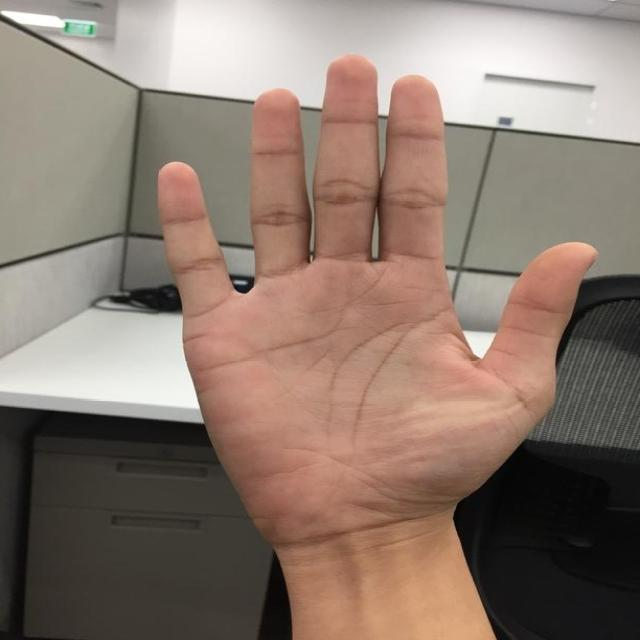hand: (153, 48, 600, 640)
